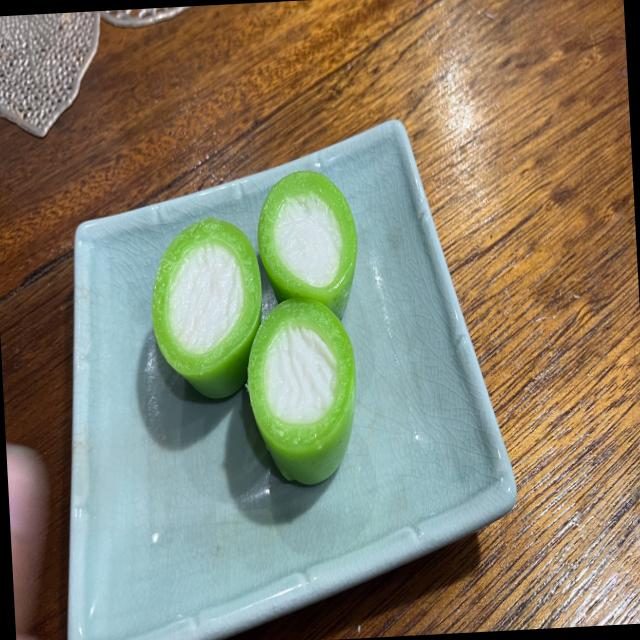nona-manis: (248, 299, 356, 485), (152, 219, 262, 399), (258, 171, 358, 319)
